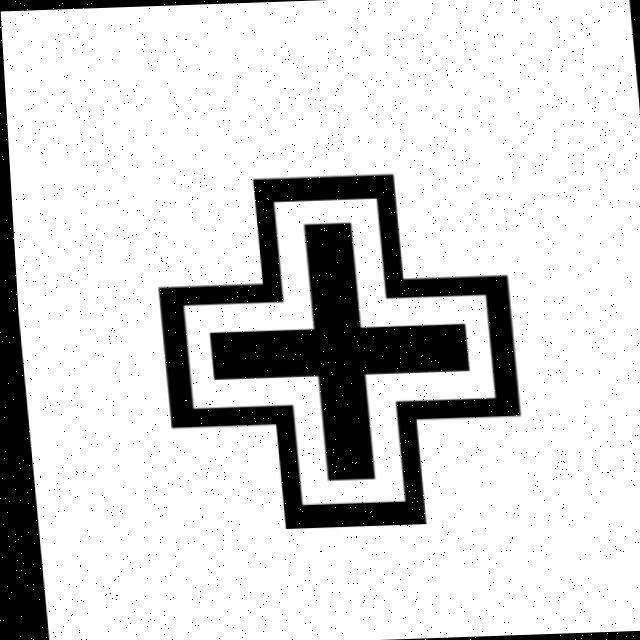cross: (132, 159, 528, 551)
